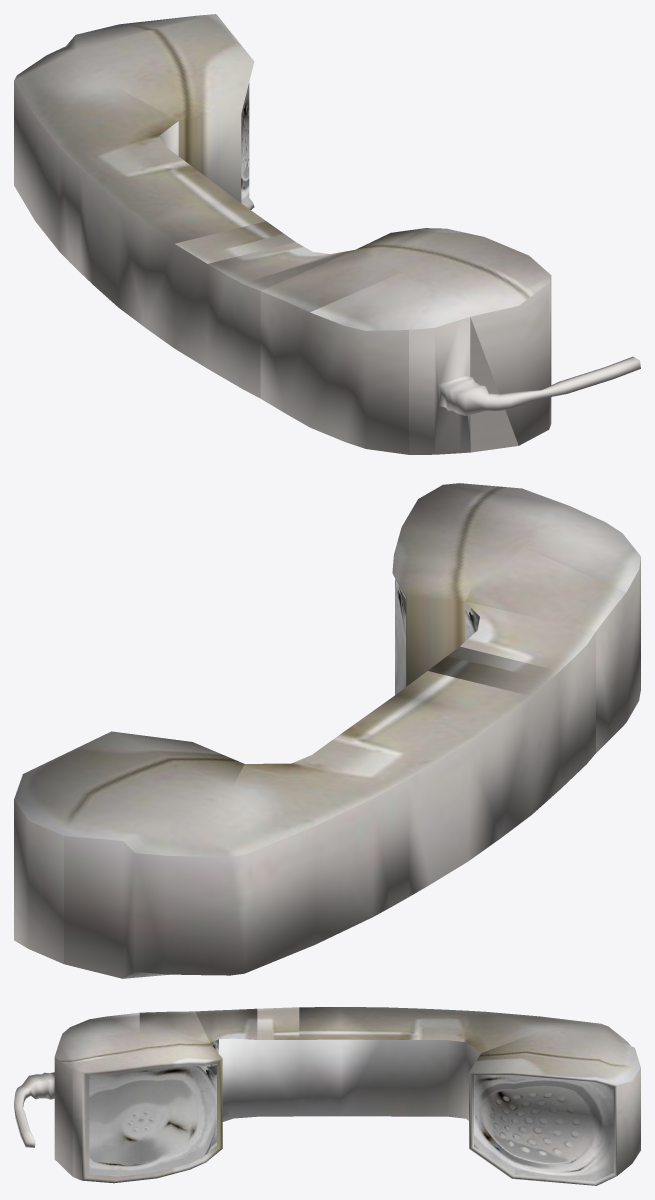
Rendered from WorldItem_RotaryPhone.fbx.
3 renders of one model, top to bottom at view 1: azimuth 30°, elevation 25°; view 2: azimuth 150°, elevation 25°; view 3: azimuth 270°, elevation 25°, orthographic. The views are drawn at different scales.
Visible parts, largest first — view 1: Cube; view 2: Cube; view 3: Cube.
Part boxes in pixels (x1,y1,x2,y2): Cube: [14, 14, 640, 454]; Cube: [14, 483, 640, 978]; Cube: [14, 1007, 640, 1185].
Size of the model in its own units: 0.0733 by 0.0394 by 0.1953.
